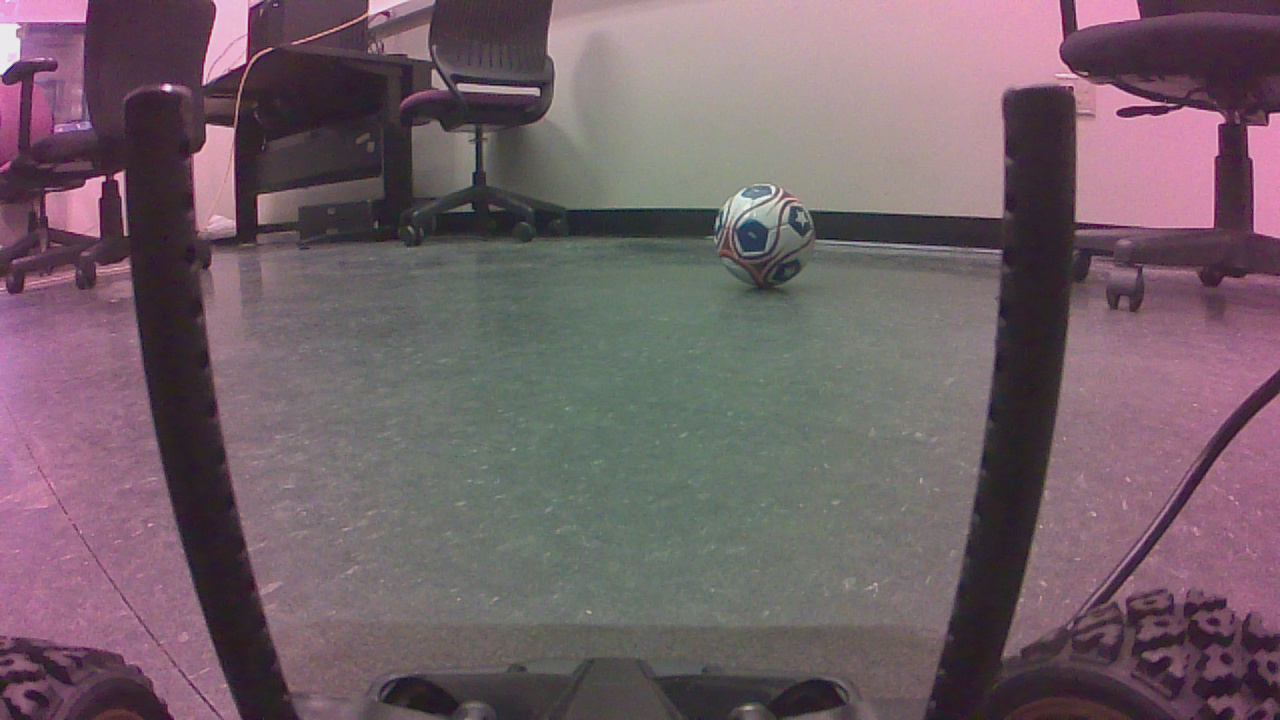ball: (718, 189, 820, 296)
